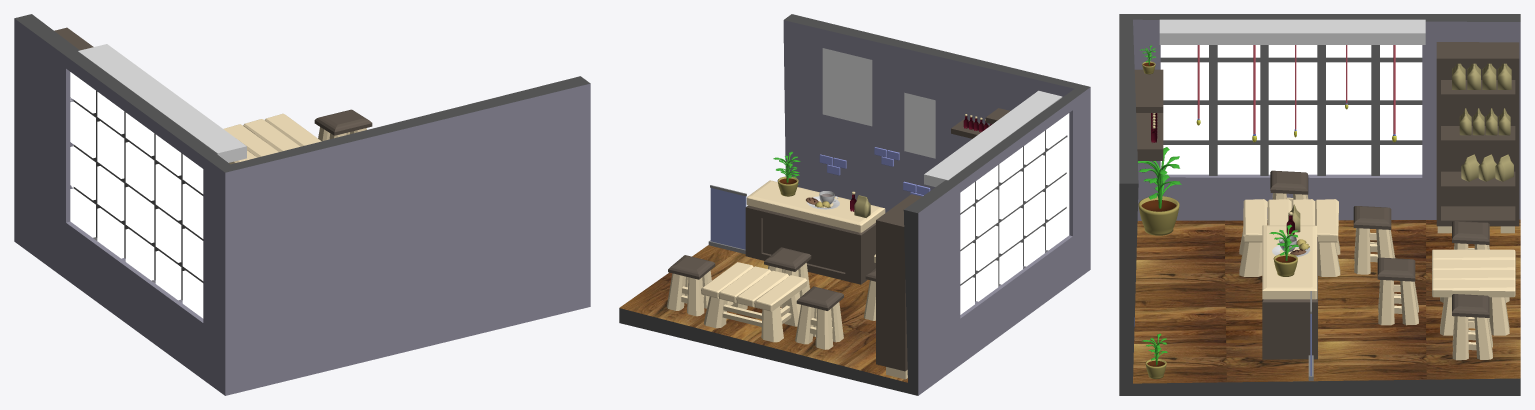
Rendered from coffeeshop.glb.
3 renders of one model, left to right at view 1: azimuth 30°, elevation 25°; view 2: azimuth 150°, elevation 25°; view 3: azimuth 270°, elevation 25°, orthographic. The views are drawn at different scales.
Visible parts, largest first — view 1: Plane, Plane.002, Cube.021, table, Cube.007; view 2: Plane, Plane.002, Cube, table, Plane.001, Attack on Titan Back Patch 28cm & 3 Small Front Pocket Arm _, Cube.021, Cube.001, Cube.006, Cube.031, Cube.007, téléchargé (4) (+3 smaller); view 3: Plane, Plane.002, Plane.001, Cube.021, table, Cube.005, Cube, Cube.001, Cube.009, Cube.007, Cube.008, Cylinder.003 (+11 smaller).
Part boxes in pixels (x1,y1,x2,y2): Plane: [14, 14, 590, 395]; Plane.002: [70, 72, 203, 318]; Cube.021: [77, 44, 246, 162]; table: [224, 113, 321, 164]; Cube.007: [314, 109, 372, 141]; Plane: [619, 14, 1090, 395]; Plane.002: [960, 113, 1069, 314]; Cube: [745, 205, 875, 284]; table: [701, 262, 807, 342]; Plane.001: [876, 194, 921, 371]; Attack on Titan Back Patch 28cm & 3 Small Front Pocket Arm _: [822, 48, 872, 126]; Cube.021: [924, 90, 1062, 186]; Cube.001: [746, 180, 885, 232]; Cube.006: [795, 286, 843, 349]; Cube.031: [708, 185, 746, 253]; Cube.007: [666, 255, 715, 316]; téléchargé (4): [904, 92, 935, 158]; Plane: [1119, 14, 1520, 395]; Plane.002: [1160, 45, 1422, 175]; Plane.001: [1436, 42, 1519, 226]; Cube.021: [1159, 19, 1425, 44]; table: [1432, 249, 1515, 335]; Cube.005: [1239, 199, 1340, 276]; Cube: [1262, 237, 1317, 359]; Cube.001: [1262, 225, 1317, 299]; Cube.009: [1377, 257, 1418, 325]; Cube.007: [1452, 294, 1492, 360]; Cube.008: [1353, 206, 1395, 274]; Cylinder.003: [1138, 147, 1181, 235].
Size of what is drawn, in the model's own units: 12.29 by 7.19 by 12.29.
27 materials, 1 textured.
